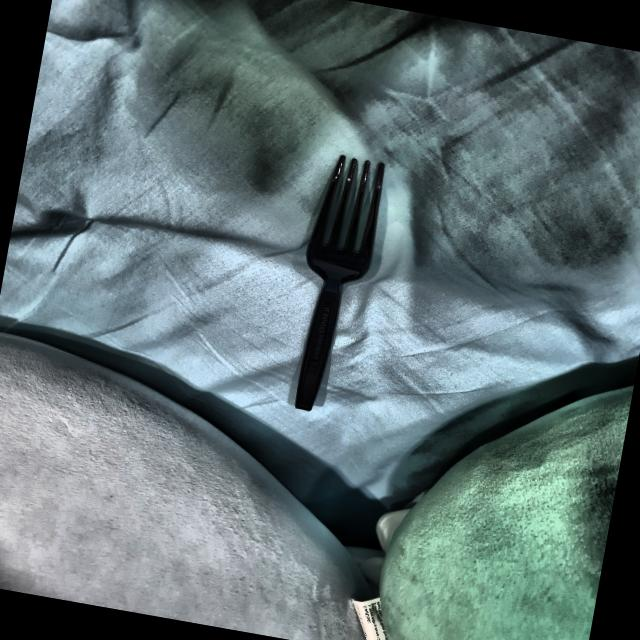plastic utensil: (280, 149, 400, 420)
